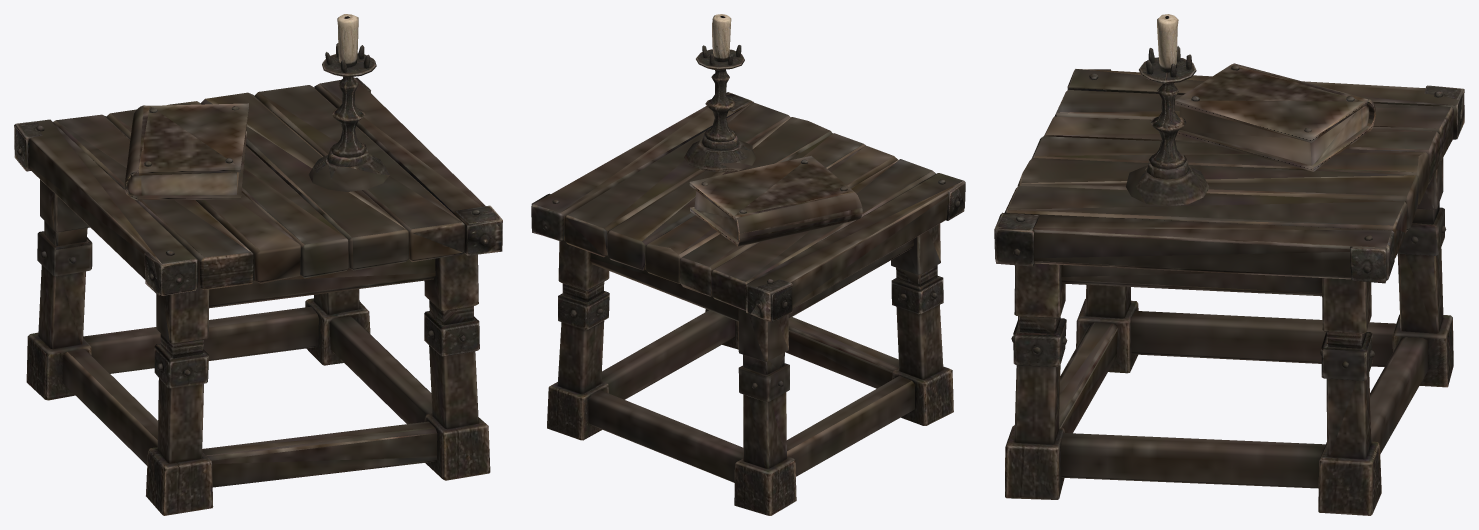
File: d_table_medium_decorated_A.glb
3 views of the same model, side by side, from view 1: azimuth 30°, elevation 25°; view 2: azimuth 150°, elevation 25°; view 3: azimuth 270°, elevation 25° (orthographic). The views are drawn at different scales.
Visible parts, largest first — view 1: d_table_medium_decorated_A; view 2: d_table_medium_decorated_A; view 3: d_table_medium_decorated_A.
Boxes of the visible parts, x1,y1,x2,y2 form: d_table_medium_decorated_A: (14,14,502,515); d_table_medium_decorated_A: (531,14,965,515); d_table_medium_decorated_A: (994,14,1464,515).
Size of the model in its own units: 1.63 by 1.89 by 1.8.
1 material, 1 textured.
